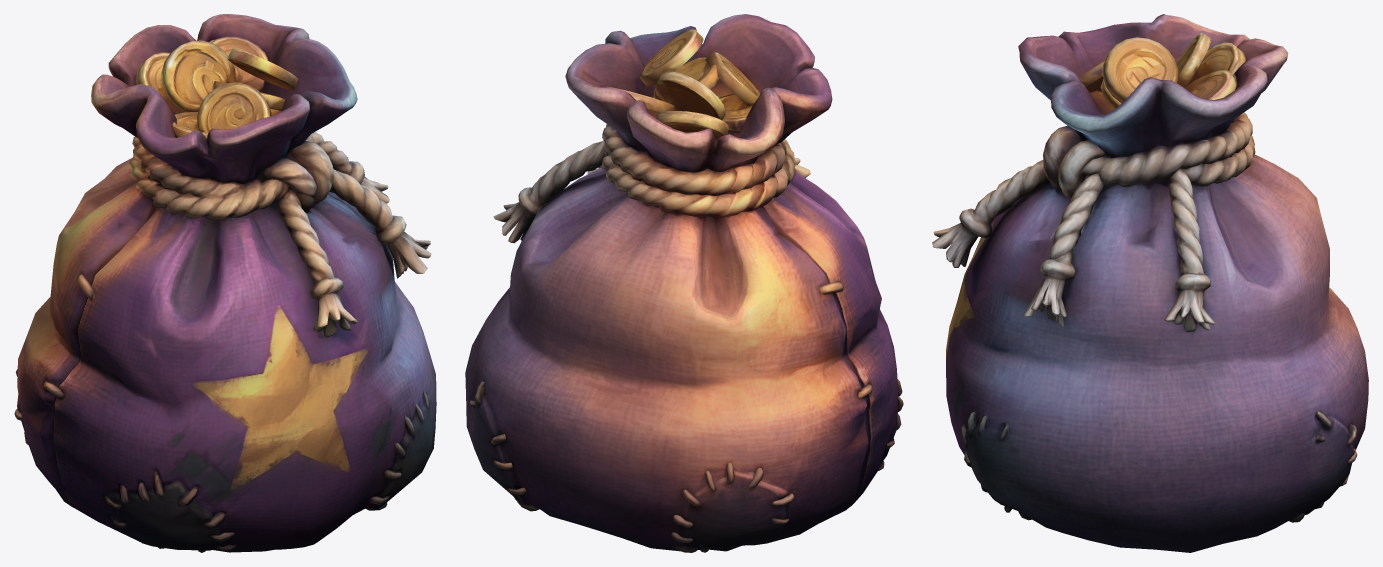
The model's file is purple_bag_3d_model.fbx.
3 views of the same model, side by side, from view 1: azimuth 30°, elevation 25°; view 2: azimuth 150°, elevation 25°; view 3: azimuth 270°, elevation 25° (orthographic).
Parts seen in each view (by area): view 1: tripo_4cd9d264_cdcf_436c_a7ee_225b52121c3a; view 2: tripo_4cd9d264_cdcf_436c_a7ee_225b52121c3a; view 3: tripo_4cd9d264_cdcf_436c_a7ee_225b52121c3a.
Part boxes in pixels (<box>): tripo_4cd9d264_cdcf_436c_a7ee_225b52121c3a: <box>14,14,436,552</box>; tripo_4cd9d264_cdcf_436c_a7ee_225b52121c3a: <box>465,14,903,552</box>; tripo_4cd9d264_cdcf_436c_a7ee_225b52121c3a: <box>932,14,1368,552</box>.
Size of the model in its own units: 0.8462 by 0.9995 by 0.8403.
1 material, 1 textured.
